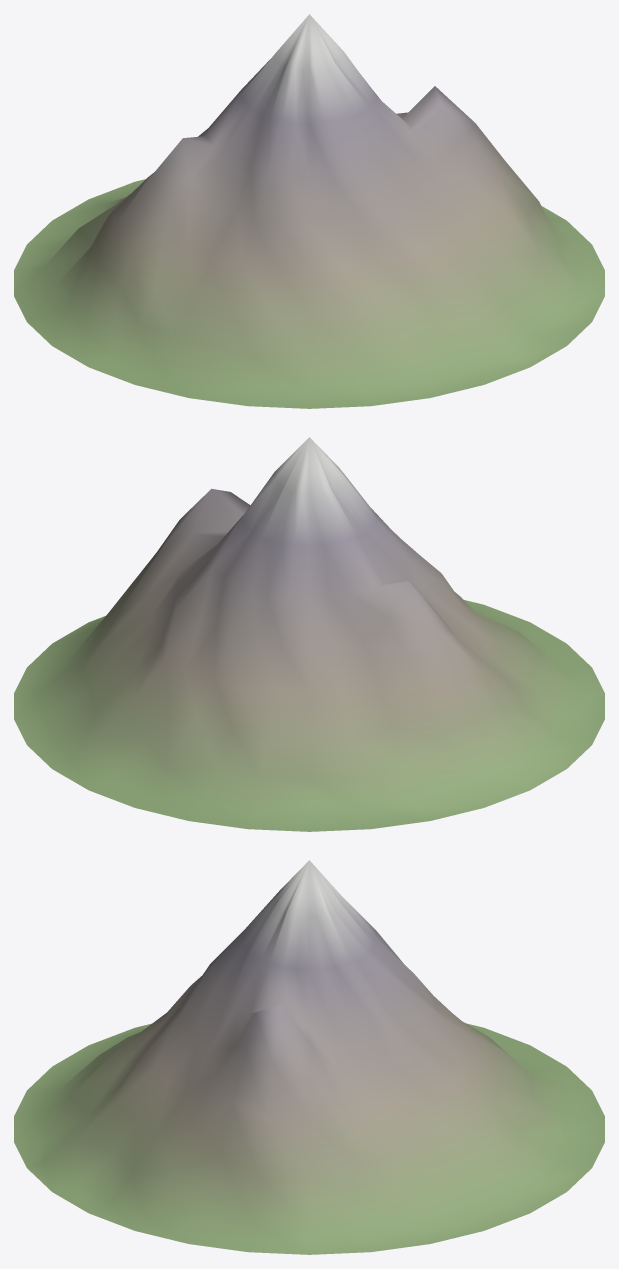
Rendered from mountain_a.glb.
3 views of the same model, one above another, from view 1: azimuth 30°, elevation 25°; view 2: azimuth 150°, elevation 25°; view 3: azimuth 270°, elevation 25° (orthographic).
Visible parts, largest first — view 1: mountain_a_terrain; view 2: mountain_a_terrain; view 3: mountain_a_terrain.
Part boxes in pixels (x1,y1,x2,y2): mountain_a_terrain: (14, 14, 604, 408); mountain_a_terrain: (14, 437, 604, 831); mountain_a_terrain: (14, 860, 604, 1254).
Size of the model in its own units: 2 by 1 by 1.99.
